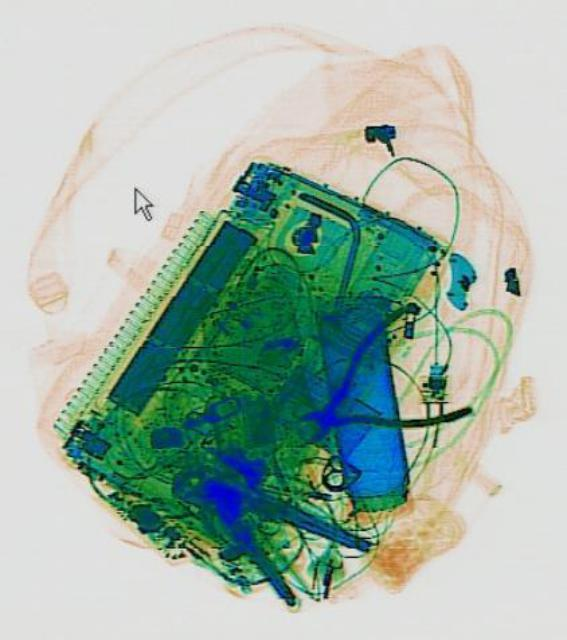Pliers: (148, 434, 371, 626), (269, 294, 470, 486)
